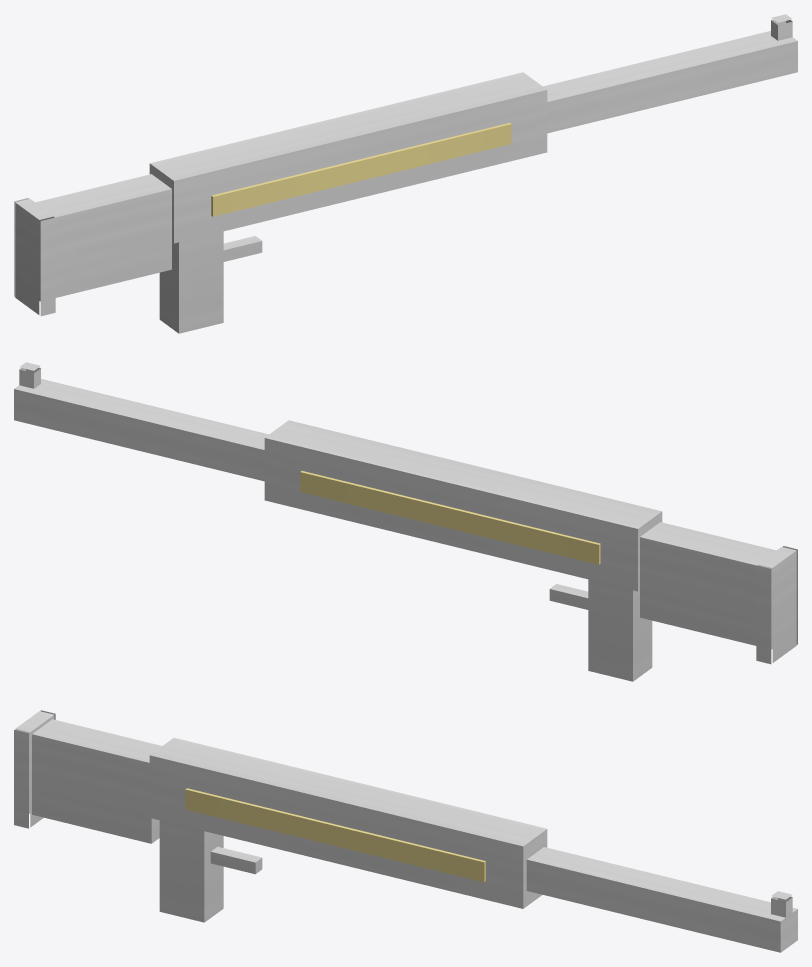
The model's file is charge_lance.obj.
The picture shows the model from 3 angles, top to bottom: view 1: azimuth 30°, elevation 25°; view 2: azimuth 150°, elevation 25°; view 3: azimuth 330°, elevation 25°; orthographic projection.
Parts seen in each view (by area): view 1: charge_lance; view 2: charge_lance; view 3: charge_lance.
Boxes of the visible parts, x1=… form: charge_lance: x1=14, y1=14, x2=797, y2=333; charge_lance: x1=14, y1=362, x2=797, y2=681; charge_lance: x1=14, y1=710, x2=797, y2=952.
Size of the model in its own units: 1.02 by 0.203 by 0.064.
